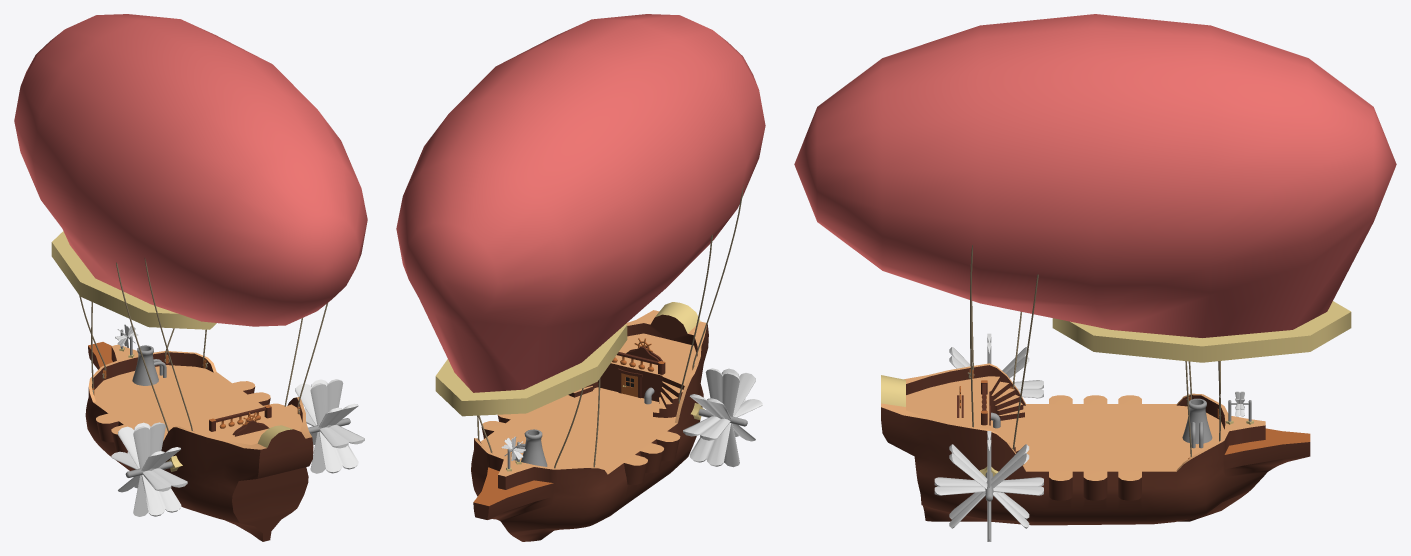
The model's file is reworked_skyship_finished.fbx.
The picture shows the model from 3 angles, left to right: view 1: azimuth 30°, elevation 25°; view 2: azimuth 150°, elevation 25°; view 3: azimuth 270°, elevation 25°; orthographic projection. The views are drawn at different scales.
Parts seen in each view (by area): view 1: Ballon, Schiffkörper, Seitwärtsflügel, Seile, Cylinder, HalterungHinten; view 2: Ballon, Schiffkörper, Seitwärtsflügel, Seile, Cylinder, Door; view 3: Ballon, Schiffkörper, Seitwärtsflügel, Seile, Cylinder.
Part boxes in pixels (box(x1,y1,x2,y2)): Ballon: box(14, 14, 367, 329); Schiffkörper: box(85, 342, 313, 541); Seitwärtsflügel: box(111, 379, 364, 516); Seile: box(79, 257, 327, 431); Cylinder: box(132, 345, 158, 385); HalterungHinten: box(125, 418, 350, 477); Ballon: box(396, 14, 765, 416); Schiffkörper: box(471, 302, 708, 541); Seitwärtsflügel: box(683, 368, 762, 467); Seile: box(477, 185, 743, 468); Cylinder: box(521, 429, 547, 466); Door: box(618, 372, 641, 398); Ballon: box(794, 14, 1396, 362); Schiffkörper: box(881, 363, 1310, 525); Seitwärtsflügel: box(934, 333, 1043, 541); Seile: box(968, 245, 1221, 456); Cylinder: box(1182, 398, 1212, 444).
Bounding box in the file's own units: 2000 × 3603 × 4000.
